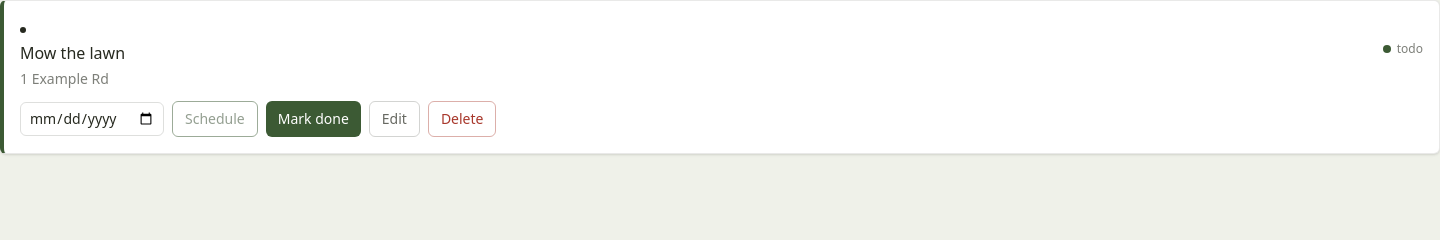
Test: TodoCard › shows the concurrency-conflict message on a 409, distinct from other errors
Click the button "Edit".
click(394, 119)  # box 369,101 -> 420,137
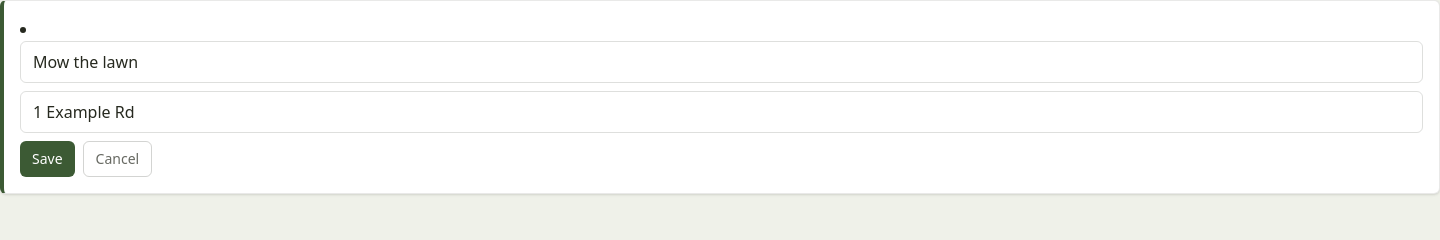
Click the button "Save".
click(47, 159)  # box 20,141 -> 75,177
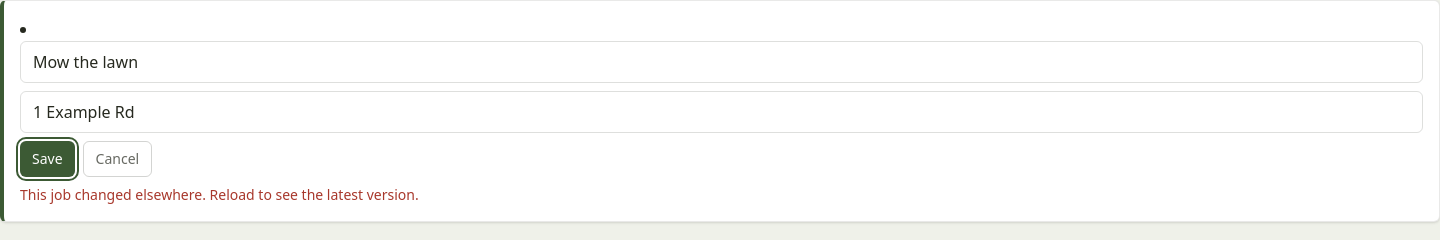
expect the message shows "changed elsewhere": met, box 20,185 -> 419,204
